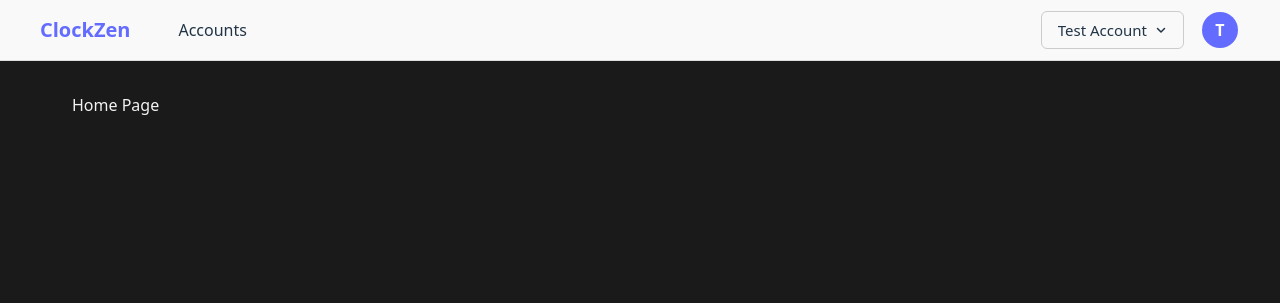
Test: Layout › Account Switcher Dropdown › opens dropdown on click
The width and height of the screenshot is (1280, 303).
Click the button "Test Account" at (1112, 30), box 1041,11 -> 1184,49
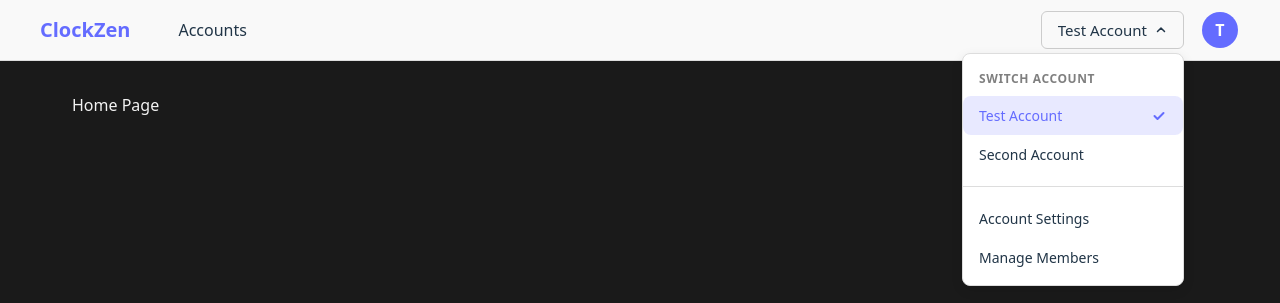
Expected: the button "Test Account" is expanded, 1041,11 -> 1184,49
Expected: the text "Switch Account" is shown, 979,70 -> 1095,87
